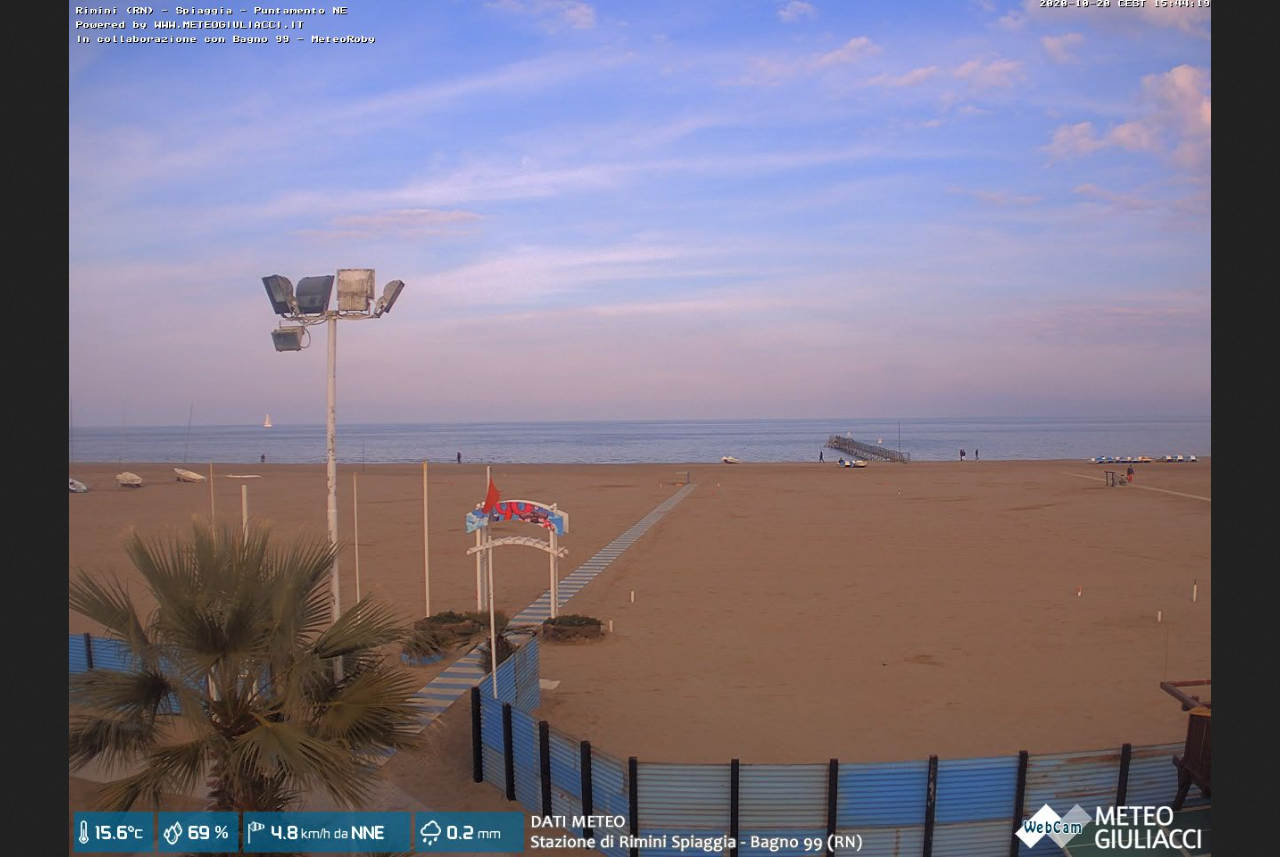no: (481, 473, 500, 513)
